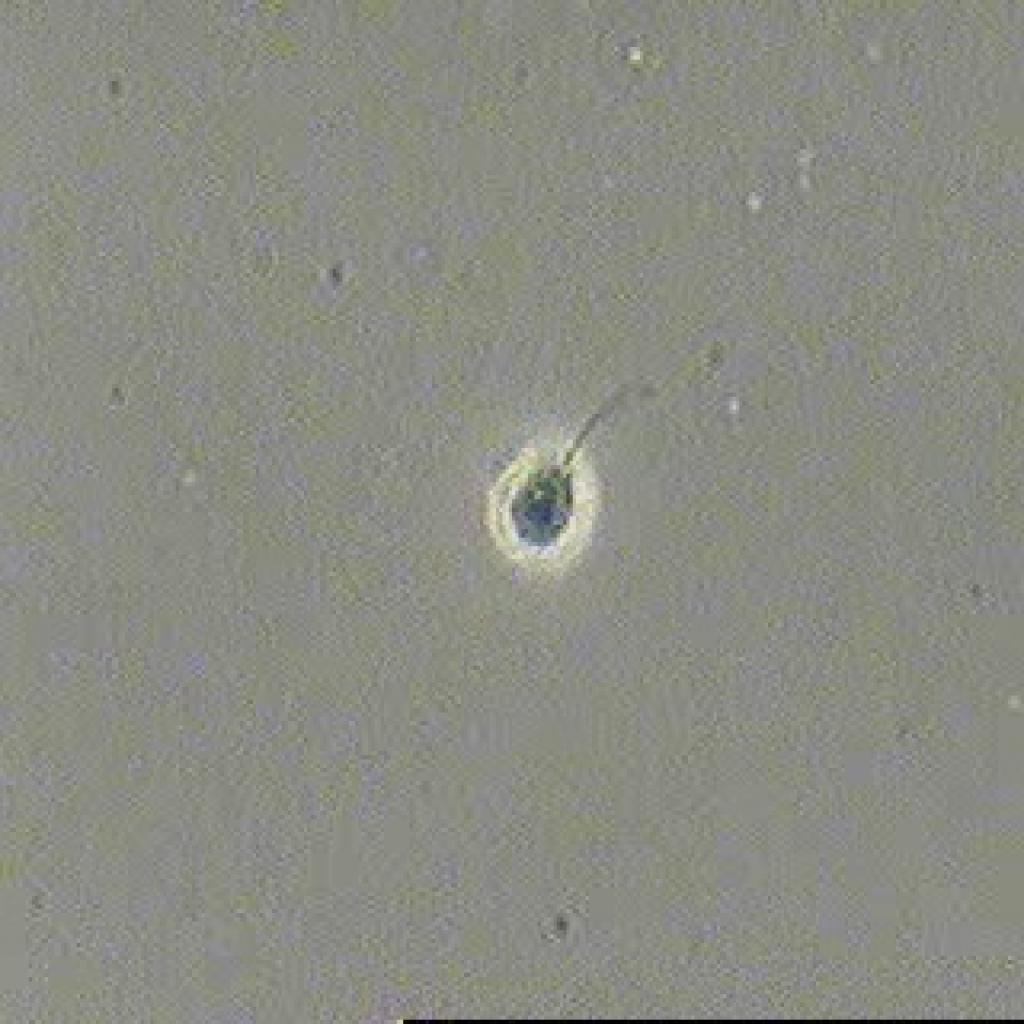Flagellates: (448, 352, 685, 582)
